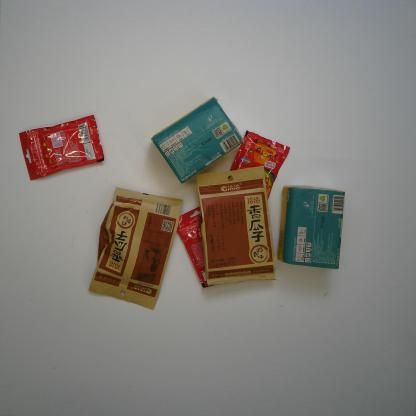Candy: (18, 113, 105, 181), (229, 129, 290, 200), (177, 206, 214, 289)
Dried Food: (87, 186, 183, 311), (196, 164, 277, 286)
Tissue: (150, 96, 244, 184), (276, 184, 346, 270)
